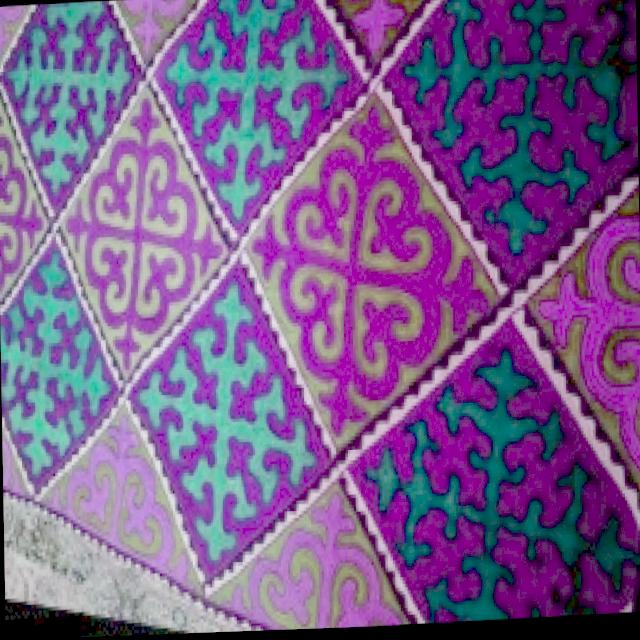Unity: (244, 96, 498, 445), (62, 88, 226, 380), (39, 406, 208, 600), (214, 484, 416, 630)
